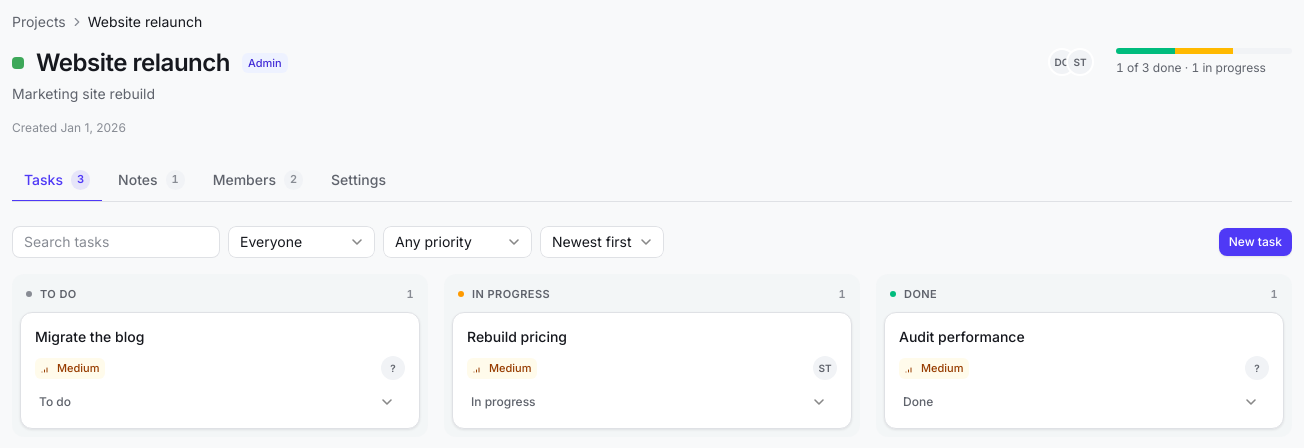
Test case: ProjectDetail › lets an admin manage every member, including themselves
Click the tab "Members 2" at x=258, y=181, box [201, 160, 315, 202]
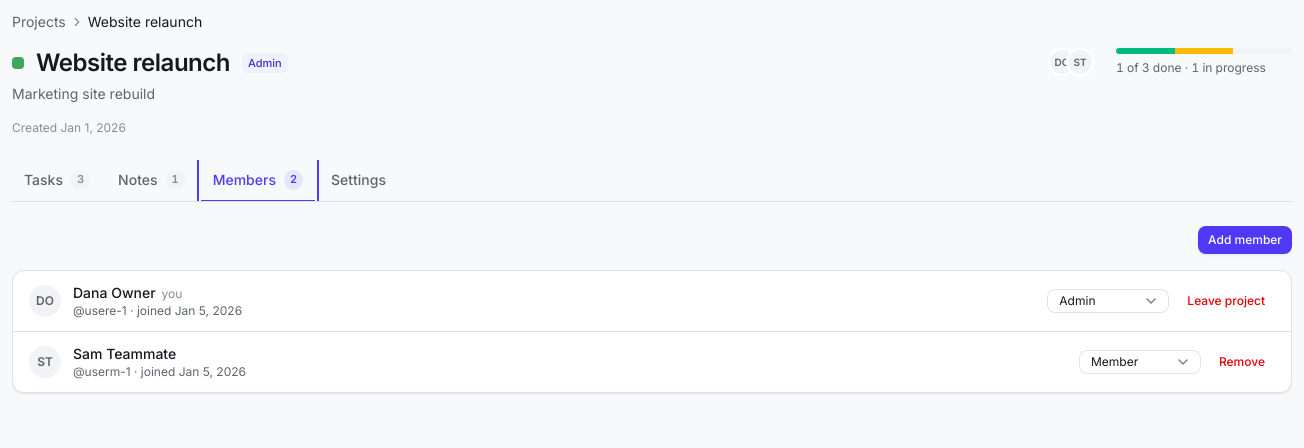
Expected: the dropdown named "Role for Sam Teammate" is shown, [1079, 350, 1201, 374]
Expected: the dropdown named "Role for Dana Owner" is shown, [1047, 289, 1169, 313]
Expected: the button named "Remove Sam Teammate" is shown, [1209, 348, 1275, 376]
